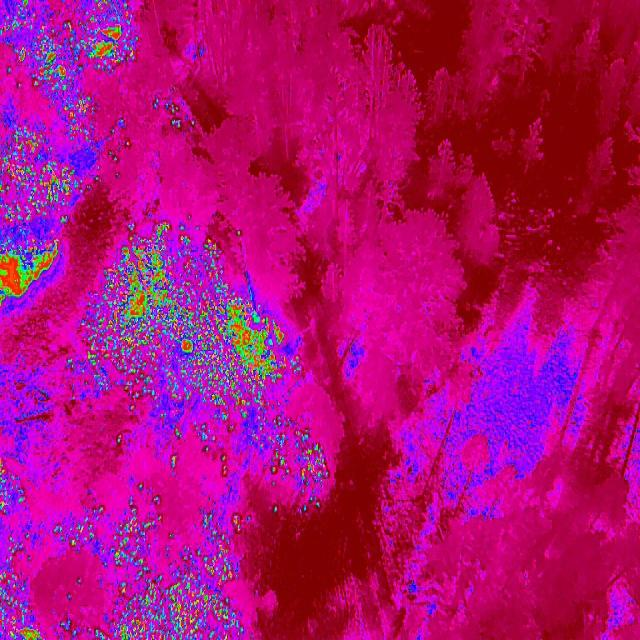fire: (84, 214, 300, 408), (91, 558, 254, 640), (0, 2, 140, 88), (241, 404, 331, 515), (0, 125, 84, 227), (0, 535, 43, 640), (0, 238, 62, 310), (193, 406, 240, 480), (144, 92, 208, 138), (193, 509, 248, 561), (52, 502, 108, 550), (54, 90, 102, 140), (110, 514, 161, 561), (120, 480, 170, 514), (0, 458, 25, 518), (104, 124, 134, 164), (64, 356, 85, 402), (167, 451, 180, 474), (112, 430, 125, 448), (172, 427, 185, 442)
